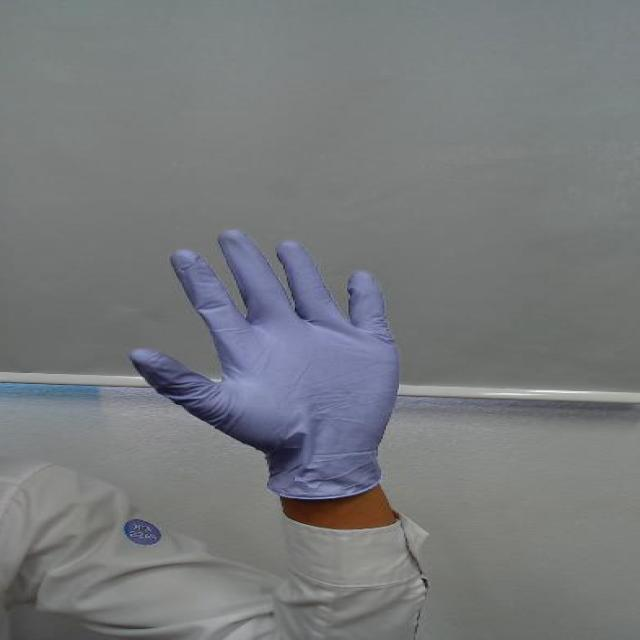glove: (114, 220, 410, 436)
